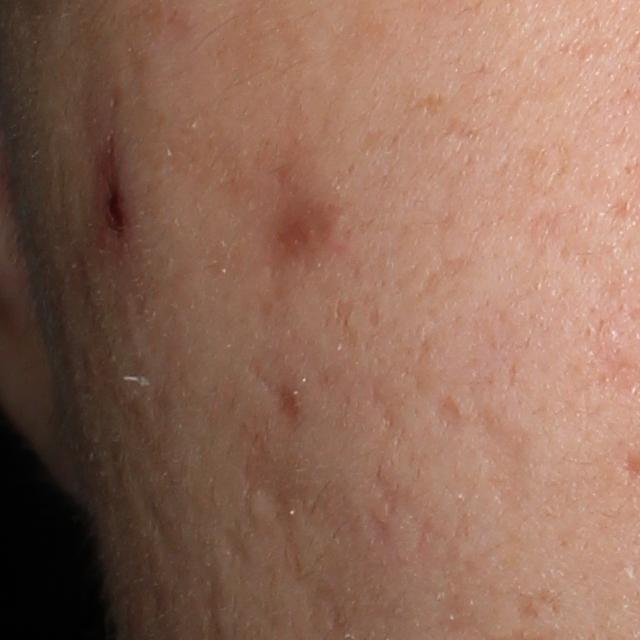atrophic_scar: (236, 428, 318, 550), (464, 407, 535, 515), (259, 205, 332, 272), (262, 369, 304, 431), (432, 394, 464, 430)
